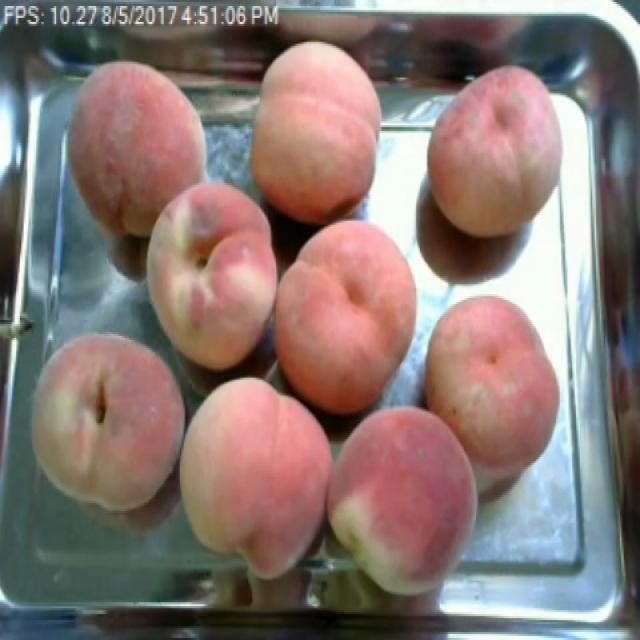Fruit: (164, 366, 341, 592), (17, 318, 199, 523), (325, 394, 492, 608), (273, 211, 435, 429), (53, 48, 220, 254), (413, 50, 580, 252), (410, 282, 574, 481), (240, 28, 395, 228), (132, 171, 280, 380)
